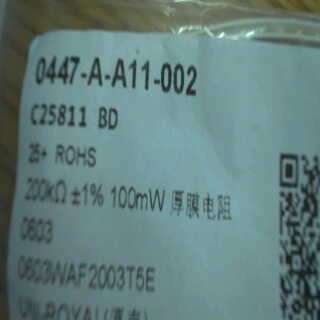200kR: (19, 173, 70, 207)
